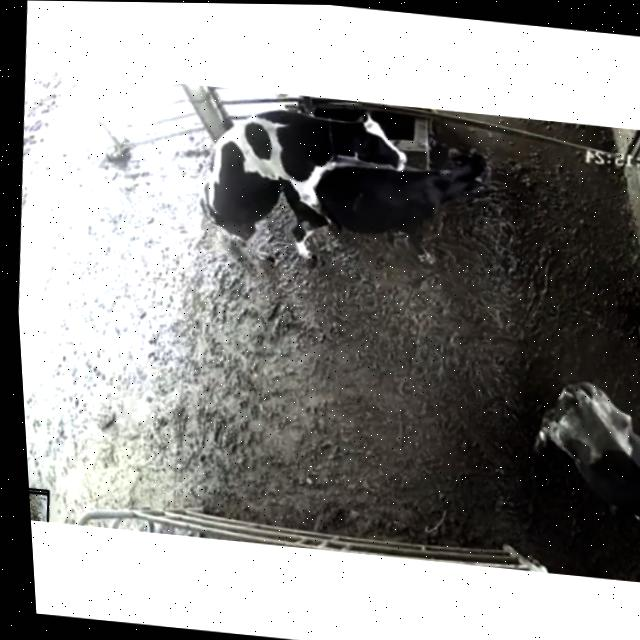ride: (176, 88, 424, 298)
